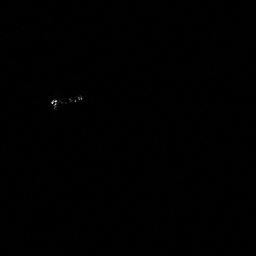ship: (50, 95, 83, 108)
